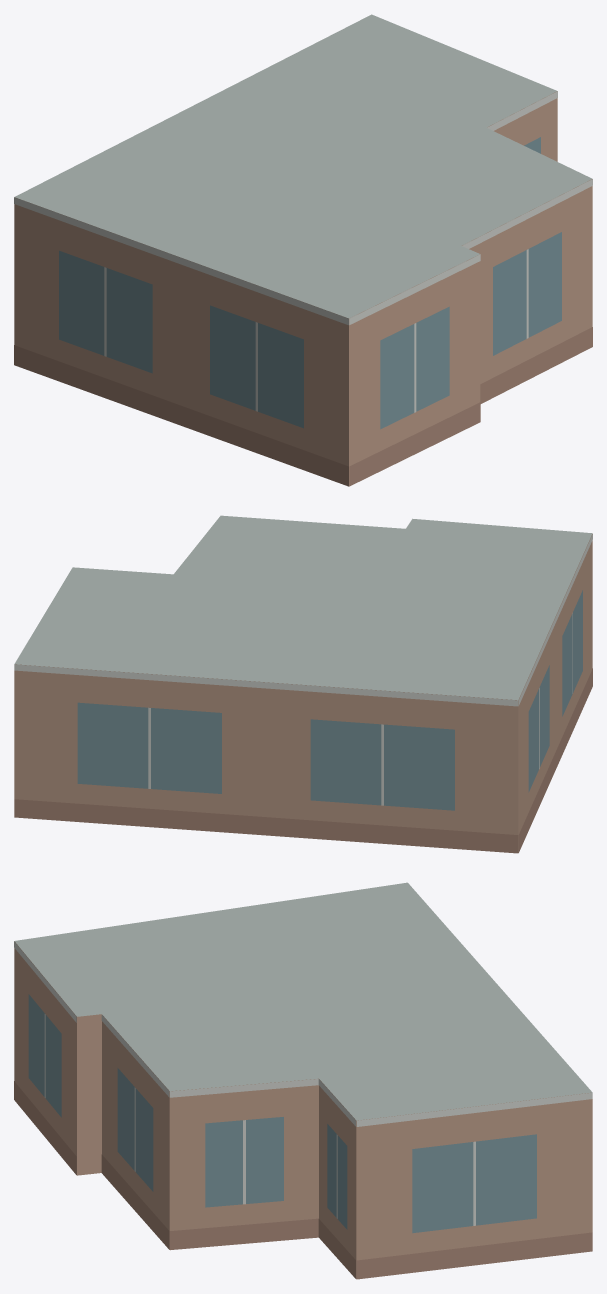
The model's file is survey-upis-32613911.glb.
3 views of the same model, one above another, from view 1: azimuth 30°, elevation 25°; view 2: azimuth 150°, elevation 25°; view 3: azimuth 270°, elevation 25° (orthographic). The views are drawn at different scales.
Visible parts, largest first — view 1: survey-upis-32613911.tmp; view 2: survey-upis-32613911.tmp; view 3: survey-upis-32613911.tmp.
Part boxes in pixels (box(x1,y1,x2,y2)): survey-upis-32613911.tmp: box(14, 14, 592, 486); survey-upis-32613911.tmp: box(14, 515, 592, 853); survey-upis-32613911.tmp: box(14, 882, 592, 1279).
Bounding box in the file's own units: 9.82 × 3.05 × 10.08.
